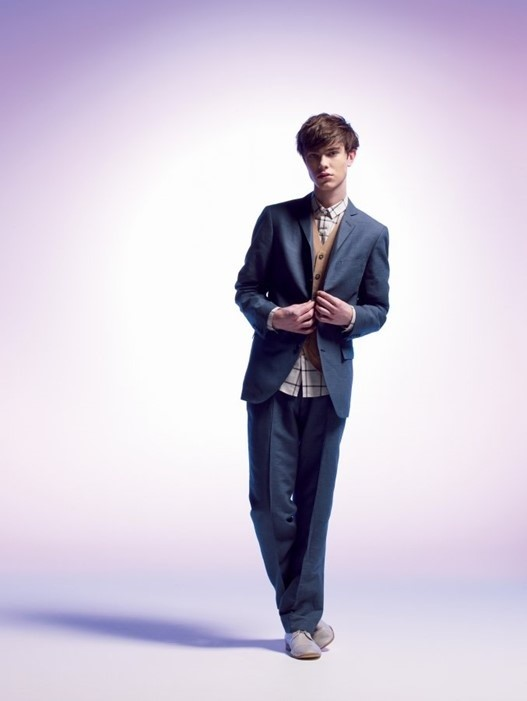face_no_mask: (296, 112, 361, 192)
